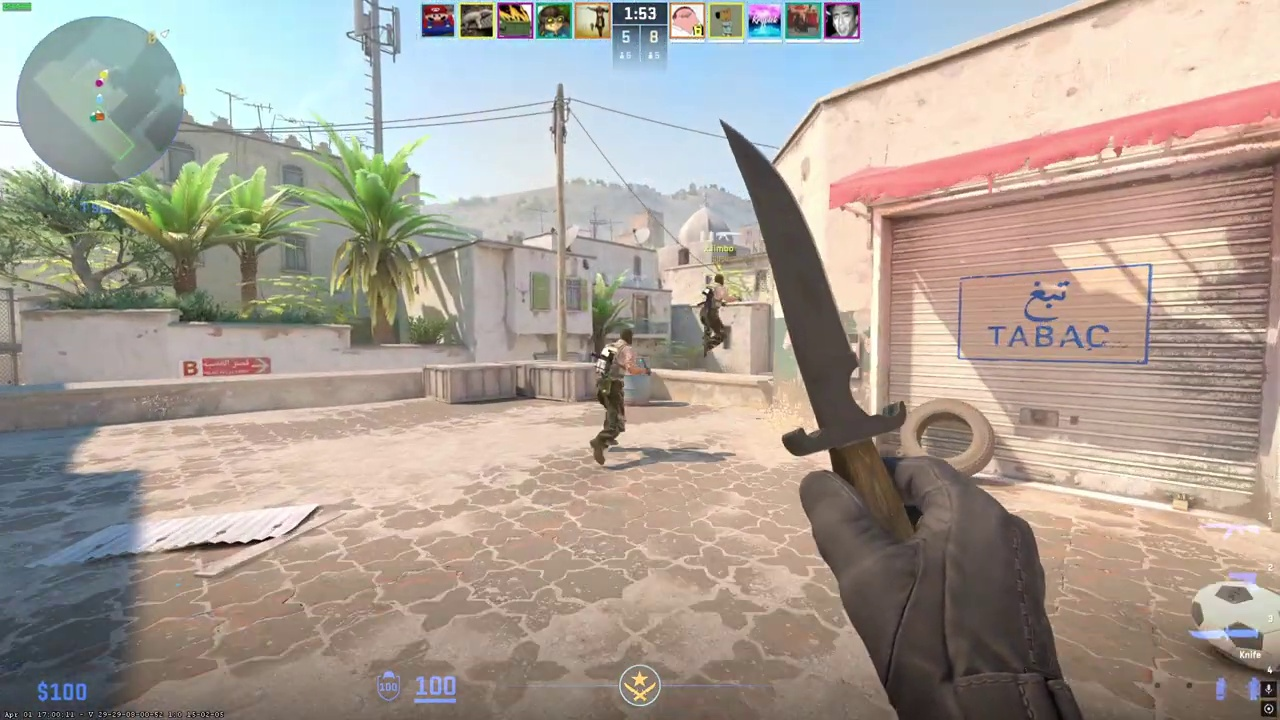Terrorist: (590, 328, 641, 465), (700, 274, 734, 356)
